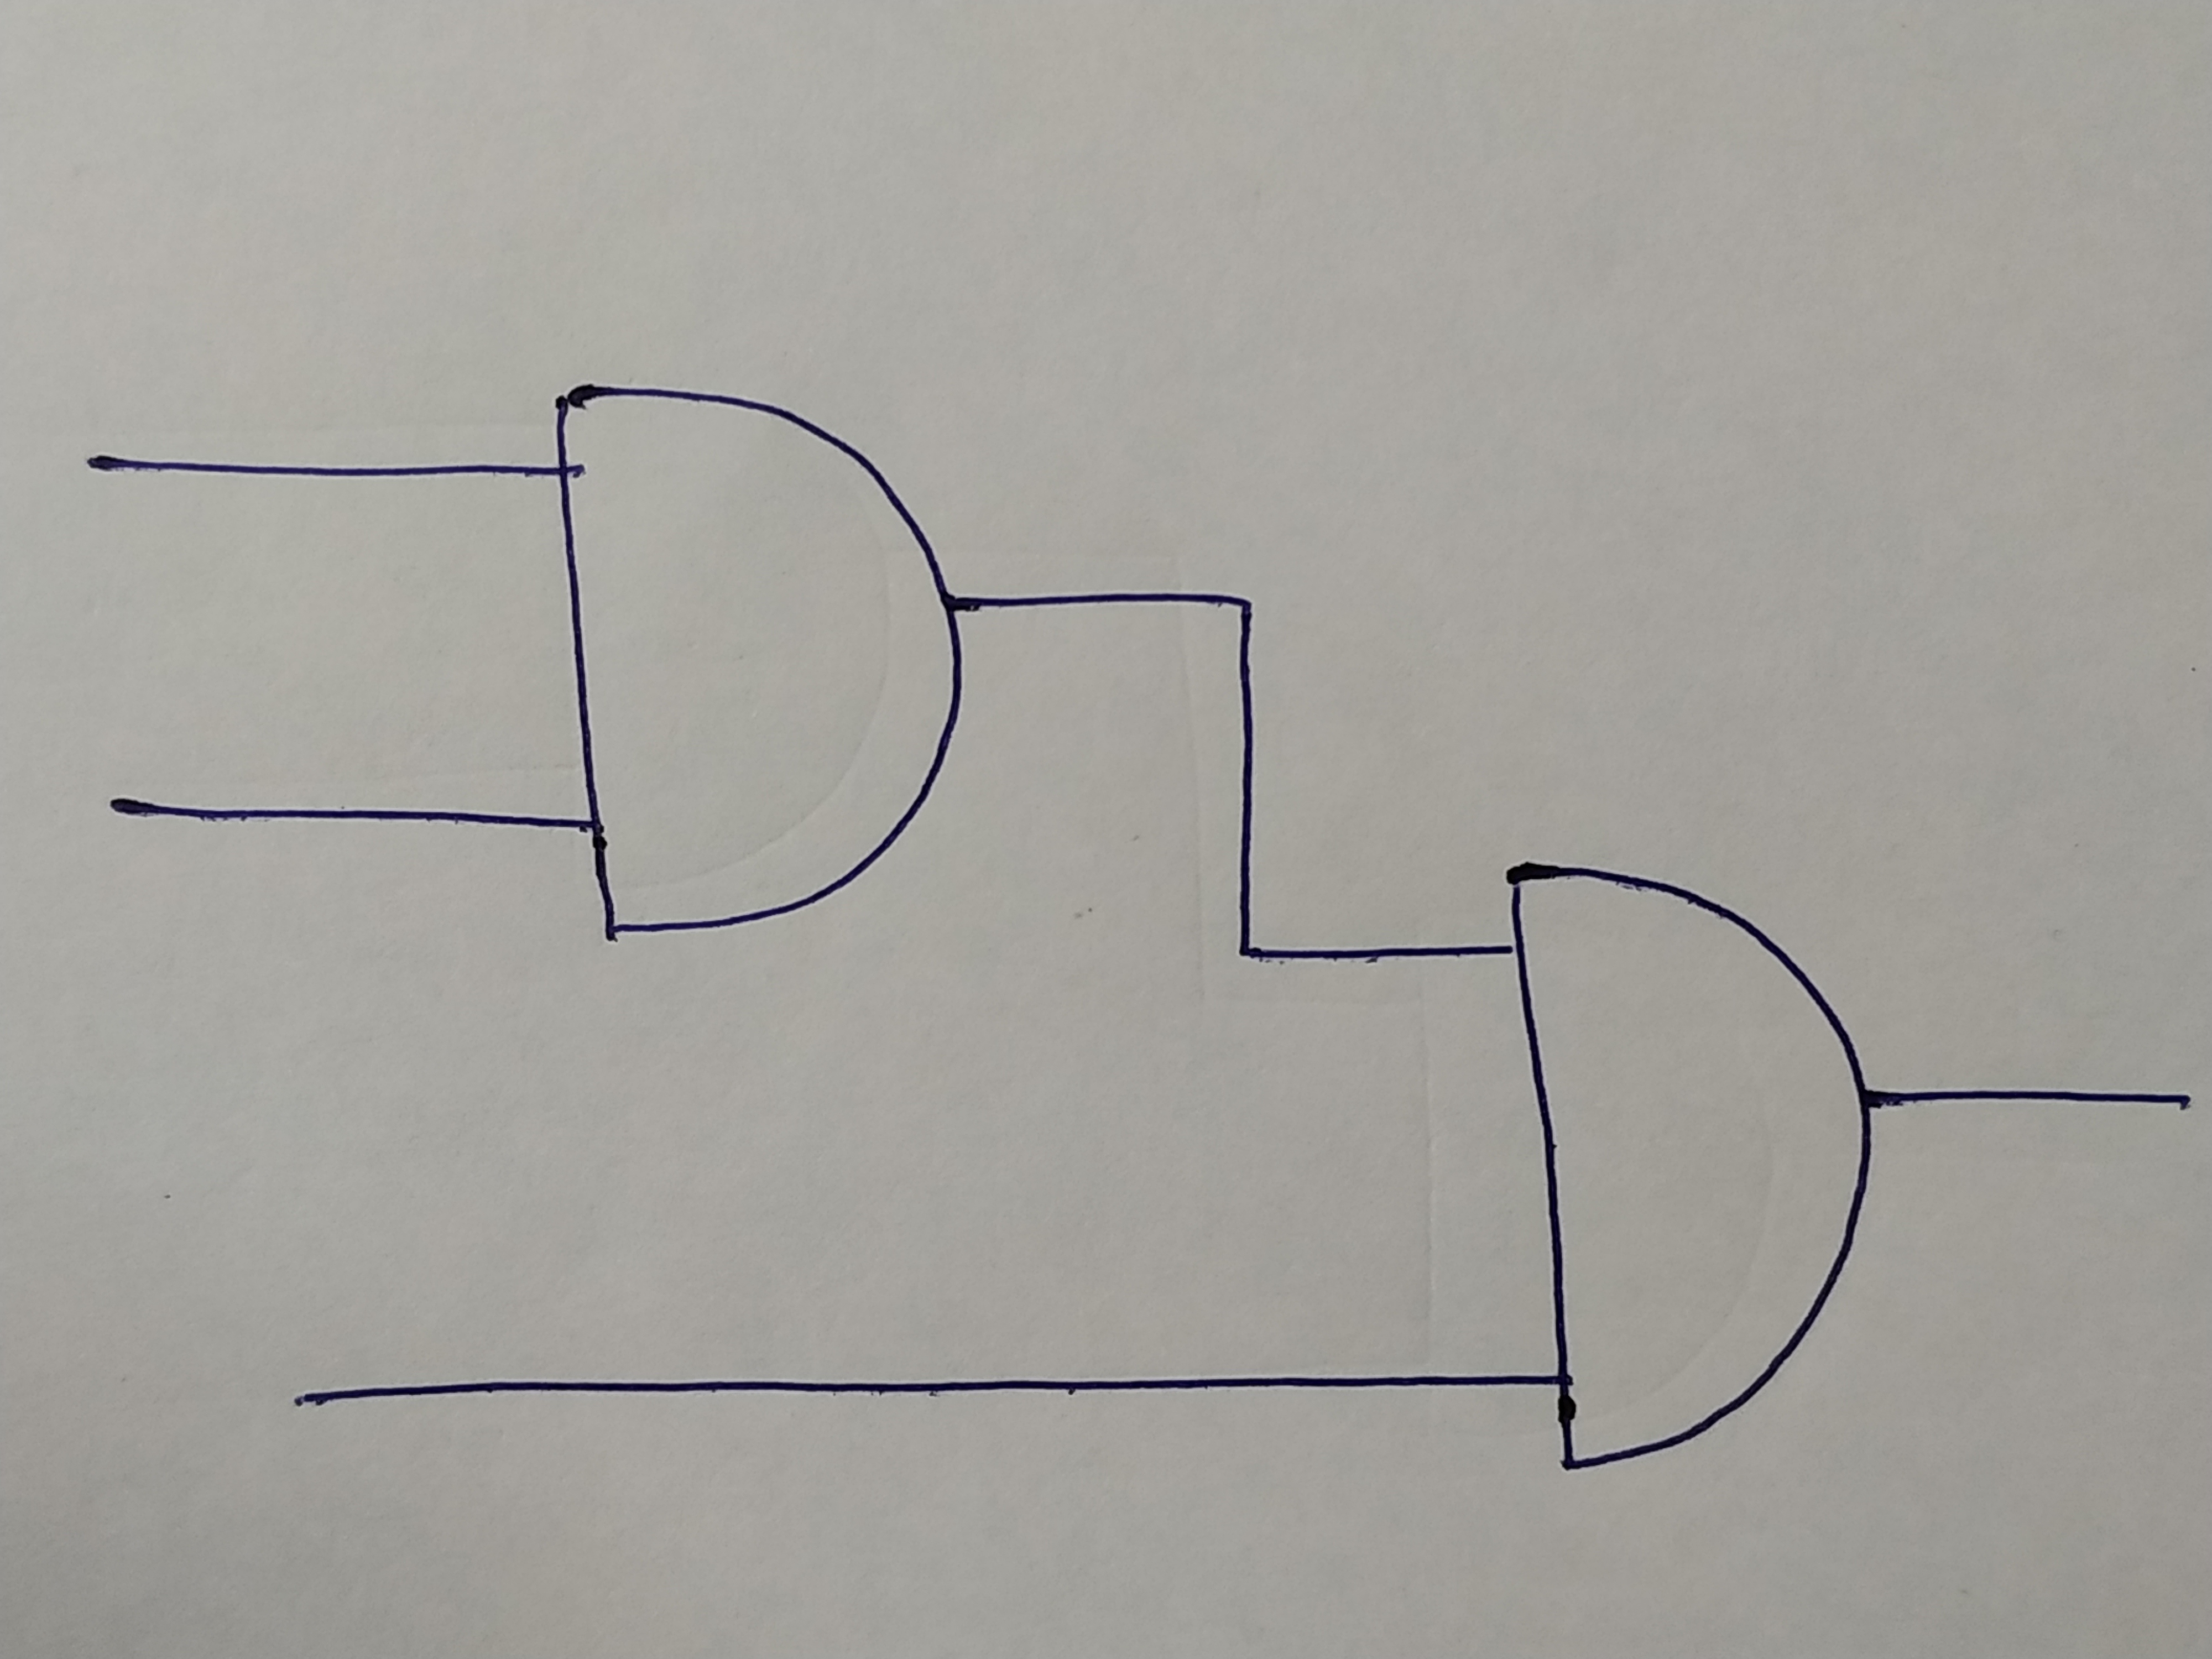and: (552, 385, 954, 927), (1505, 864, 1867, 1459)
